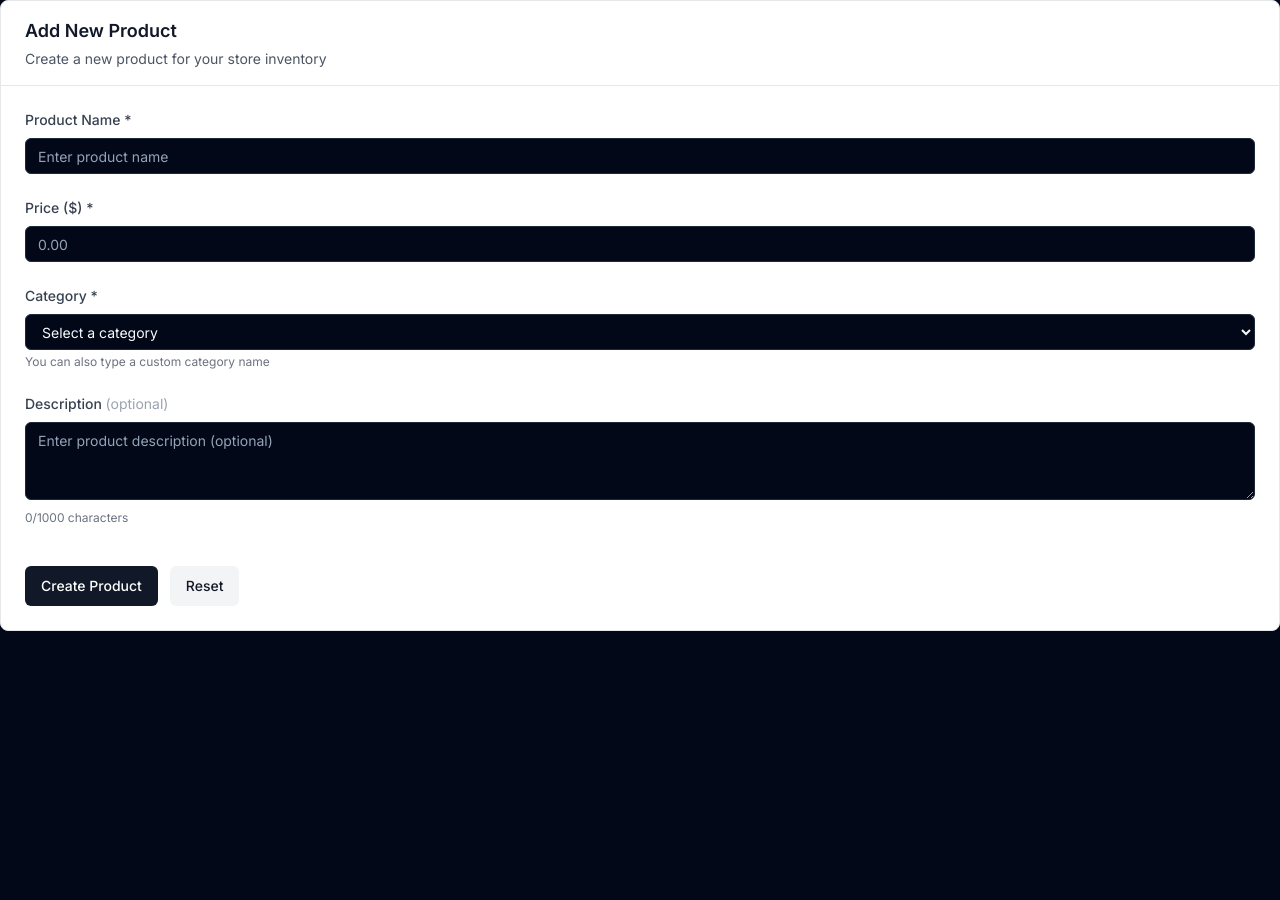
Test case: ProductForm › updates character count when typing in description
The image size is (1280, 900).
Type "Test" into the text box labelled "Description (optional)".
click(640, 461); type("Test")  # box [25,422,1255,500]
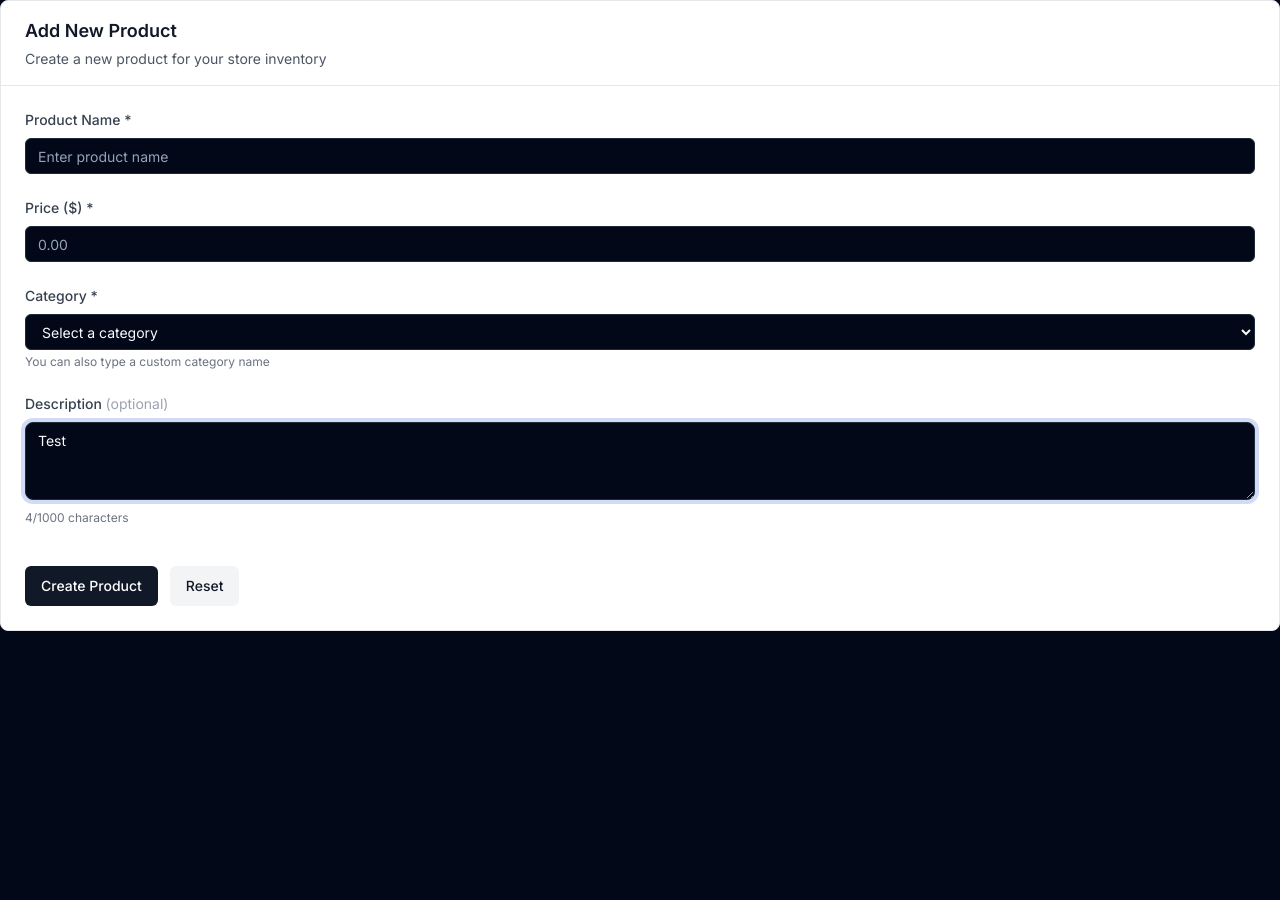
Check: the text "4/1000 characters" is shown, box [25,510,128,525]
